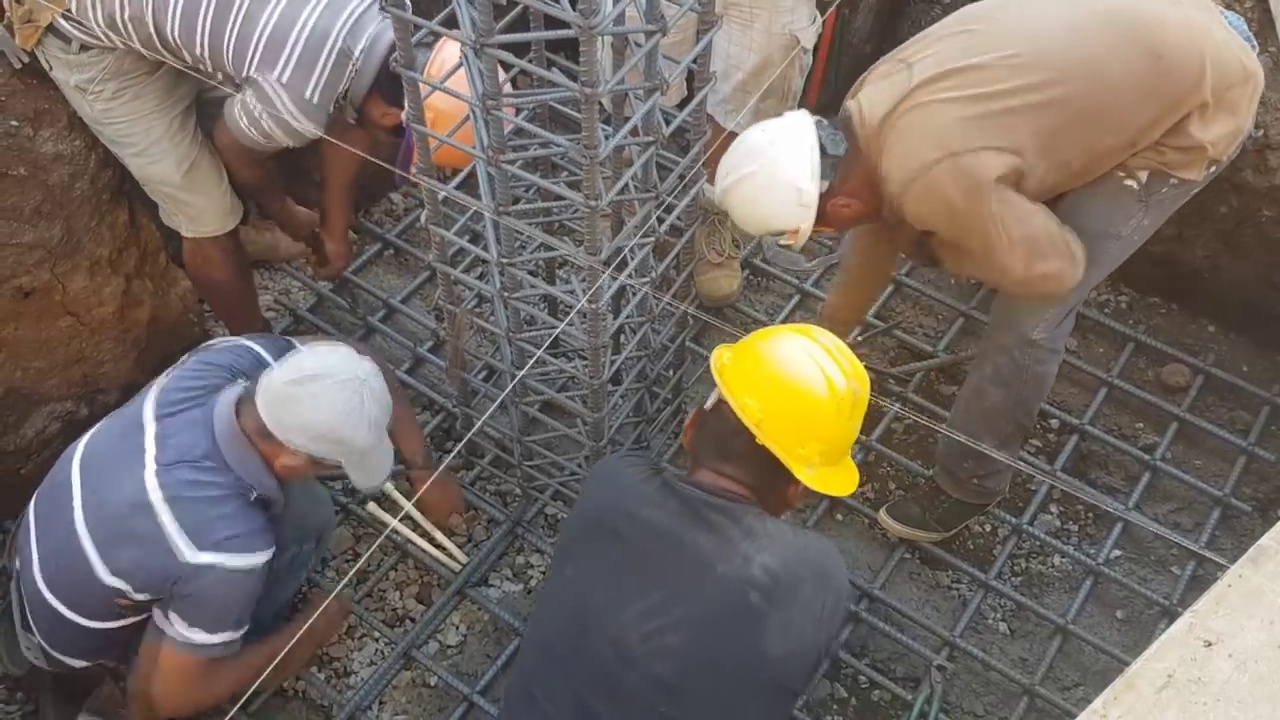helmet: (710, 323, 868, 497), (709, 106, 835, 248), (408, 39, 520, 179)
helmet-off: (230, 351, 406, 503)
helmet-on: (657, 327, 868, 519), (716, 98, 903, 258), (355, 33, 522, 176)
person: (711, 2, 1275, 537), (18, 338, 469, 720), (14, 0, 520, 336), (510, 315, 866, 707), (588, 2, 824, 299)
